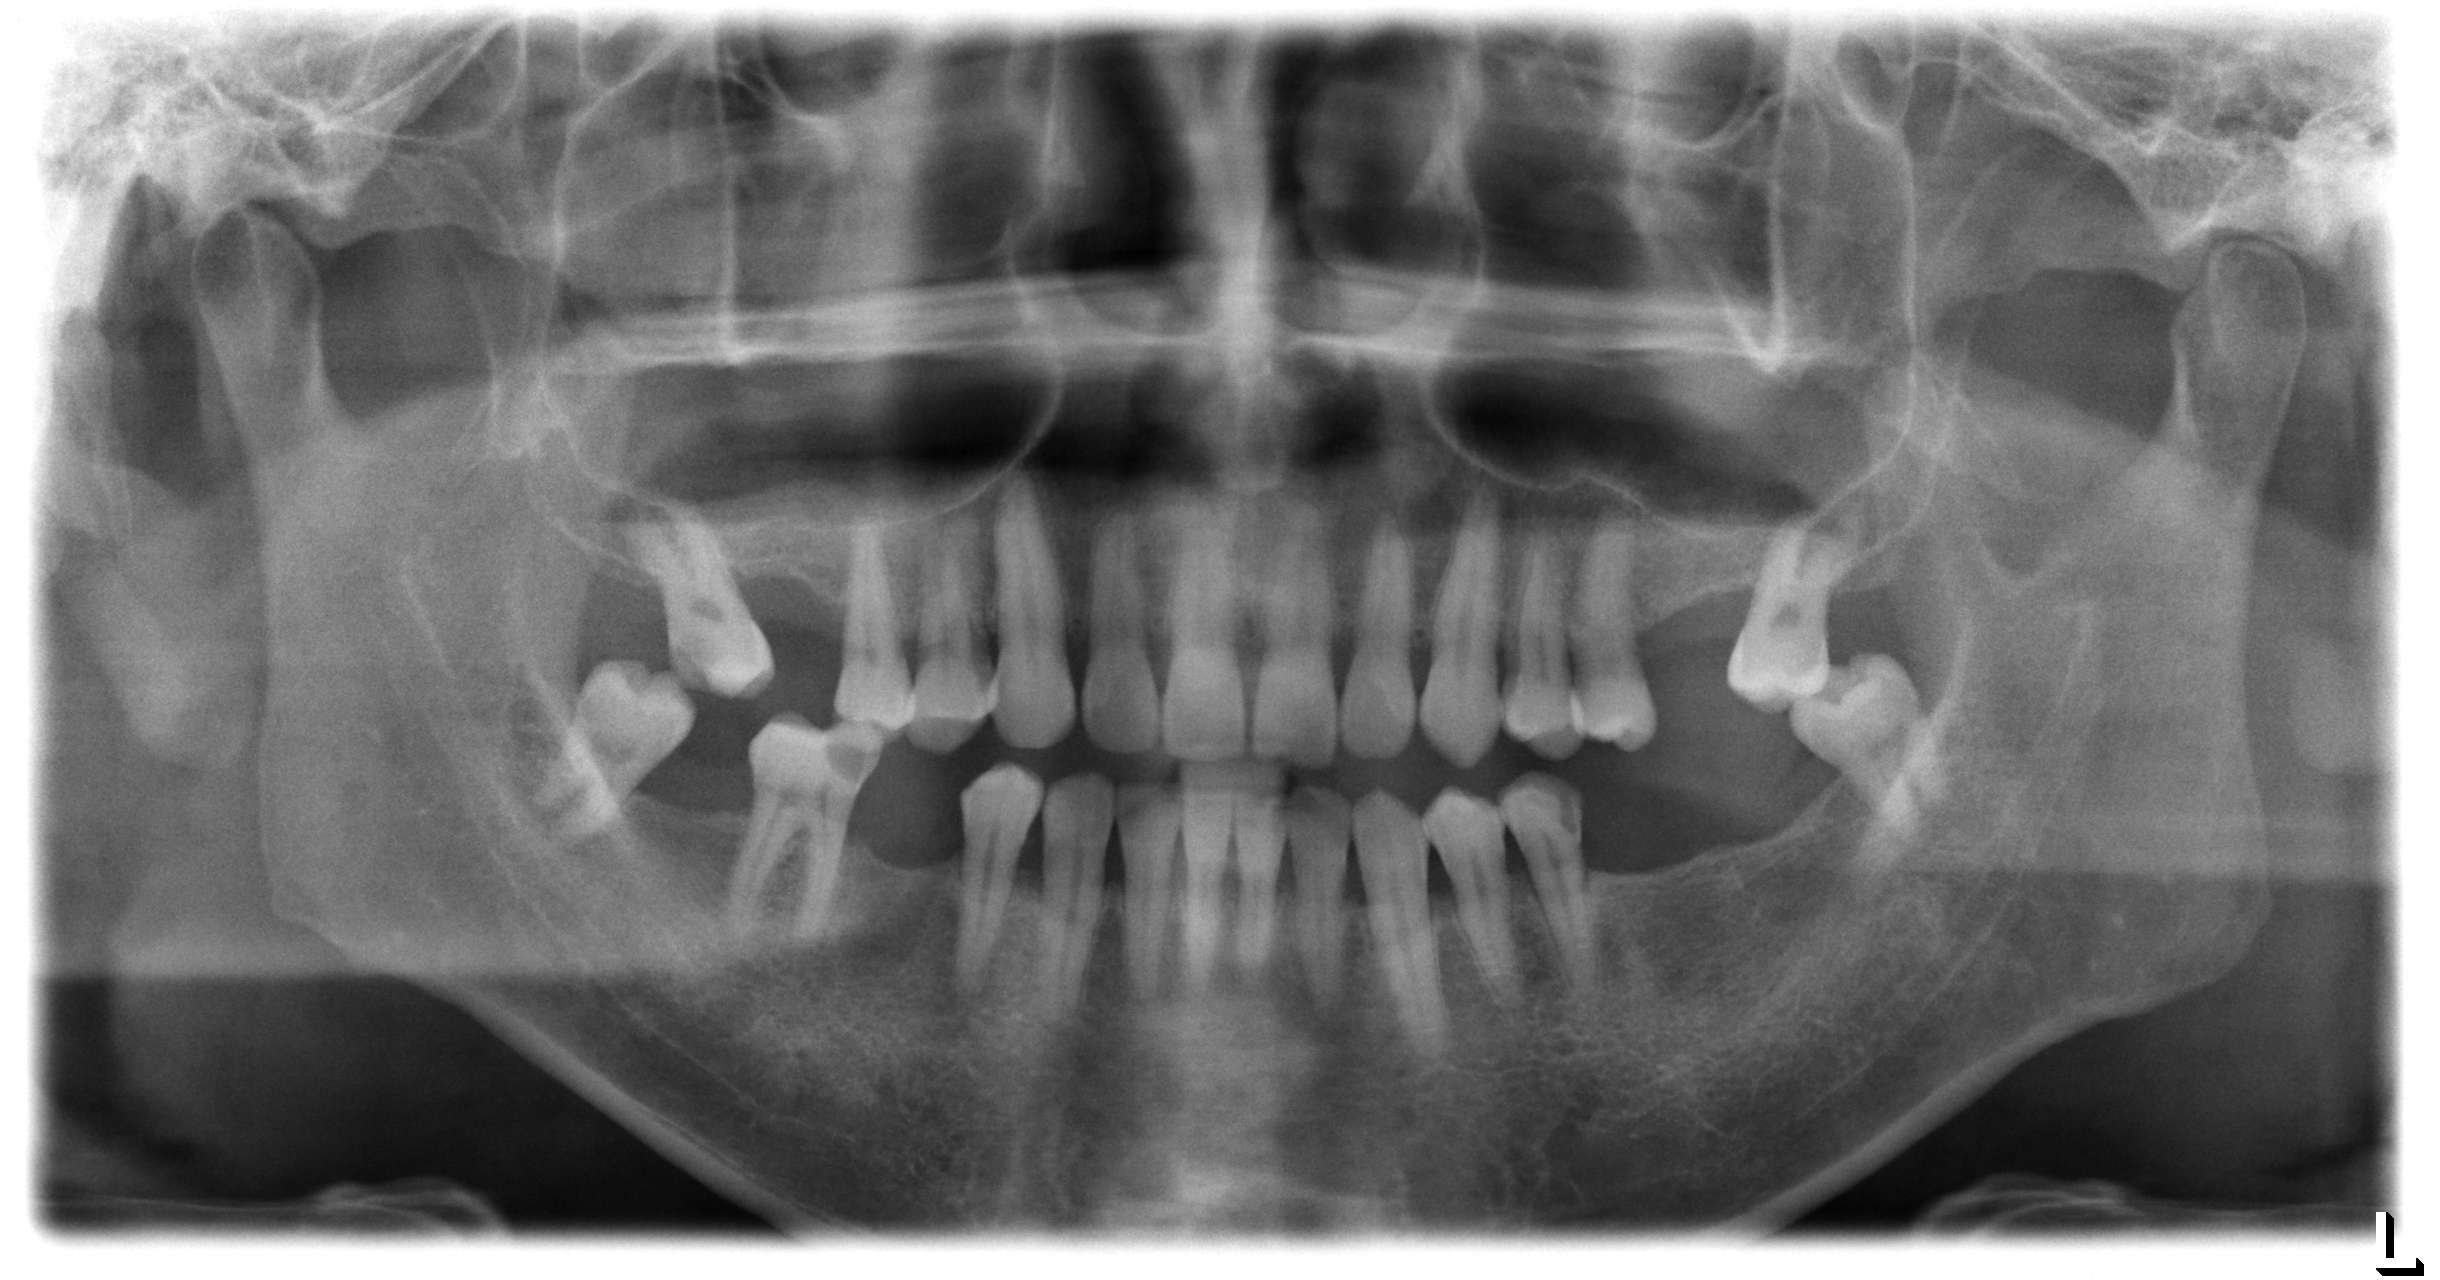Decay: (812, 715, 888, 789), (1538, 772, 1586, 855), (666, 630, 729, 689)
